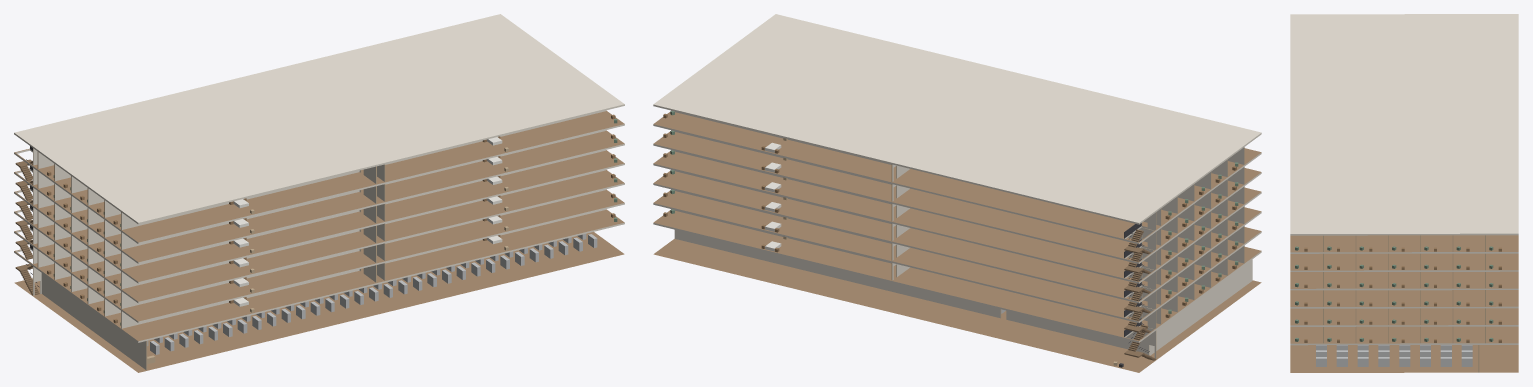
File: interior.glb
The picture shows the model from 3 angles, left to right: view 1: azimuth 30°, elevation 25°; view 2: azimuth 150°, elevation 25°; view 3: azimuth 270°, elevation 25°; orthographic projection. The views are drawn at different scales.
Parts seen in each view (by area): view 1: slabs, partitions, coarse-s0, stair; view 2: slabs, partitions, stair; view 3: slabs, coarse-s0, partitions, coarse-s2, coarse-s6, coarse-s3, coarse-s5, coarse-s4, coarse-s1.
Part boxes in pixels (x1,y1,x2,y2): slabs: [14, 14, 624, 372]; partitions: [33, 110, 605, 370]; coarse-s0: [147, 234, 597, 364]; stair: [15, 146, 39, 295]; slabs: [653, 14, 1261, 372]; partitions: [671, 110, 1252, 359]; stair: [1124, 223, 1155, 360]; slabs: [1290, 14, 1518, 372]; coarse-s0: [1316, 345, 1472, 366]; partitions: [1323, 235, 1485, 372]; coarse-s2: [1295, 319, 1501, 324]; coarse-s6: [1295, 246, 1501, 251]; coarse-s3: [1295, 301, 1501, 306]; coarse-s5: [1295, 264, 1501, 269]; coarse-s4: [1295, 283, 1501, 287]; coarse-s1: [1295, 337, 1501, 342].
Size of the model in its own units: 80.11 by 23.6 by 35.18.
